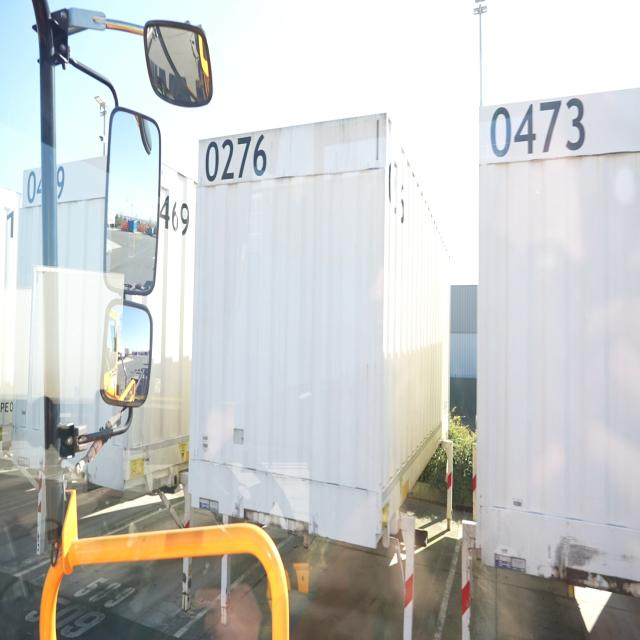Code: (488, 99, 589, 165), (205, 130, 272, 188)
